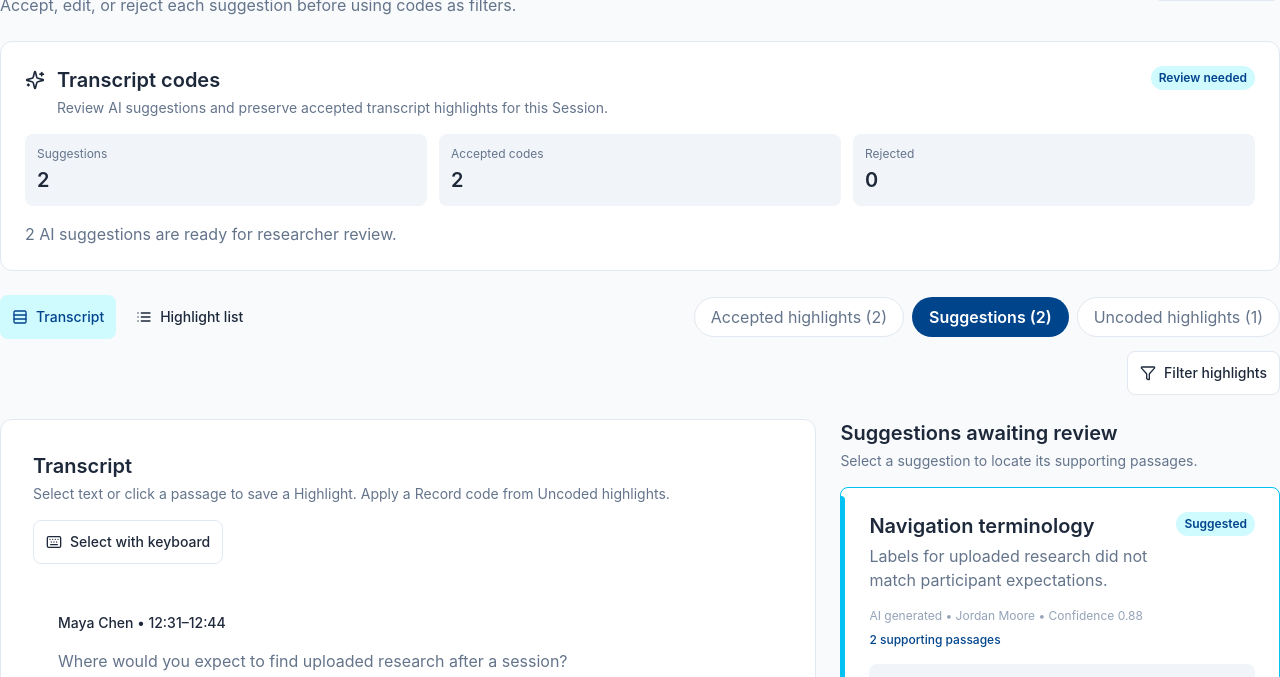
it: Transcript Coding Workspace filters › creates an uncoded whole-passage Highlight when a reader block is clicked
Click the text "Where would you expect to find uploaded research after a session?": (313, 661) x1=58 y1=651 x2=568 y2=671
(page scrolled)
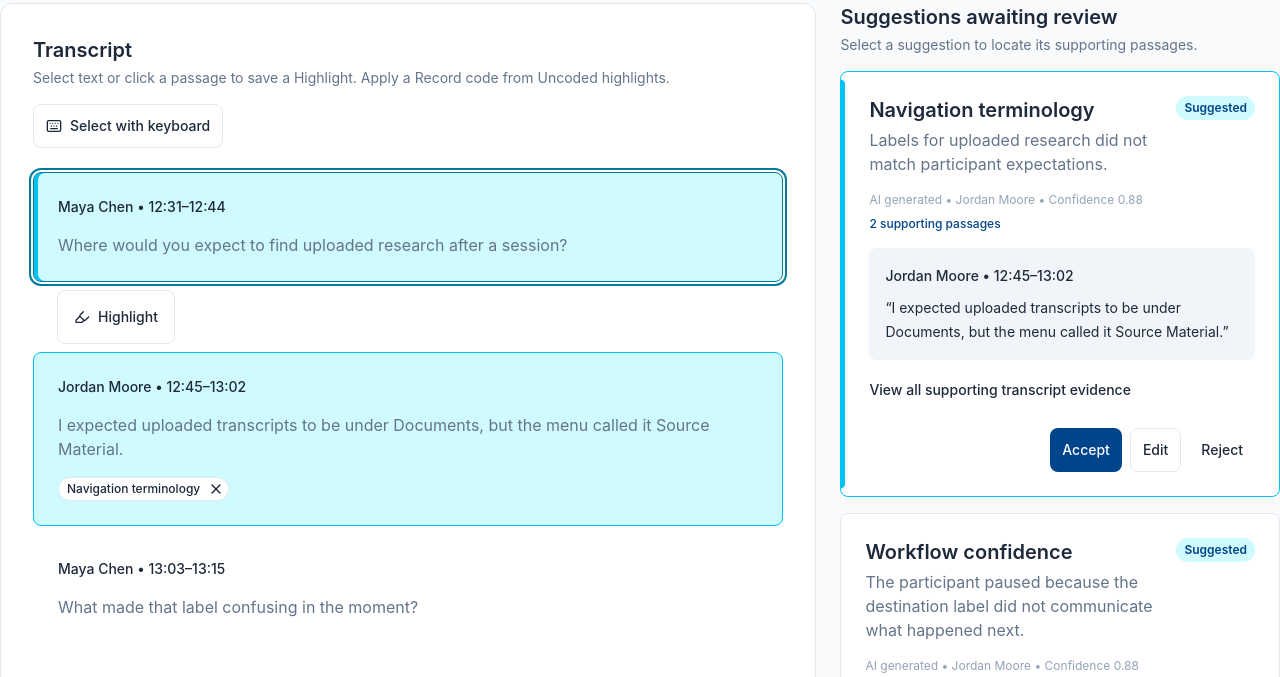
Check: the button "Apply code" is not shown
Click the button "Highlight": (116, 317) x1=62 y1=295 x2=170 y2=339
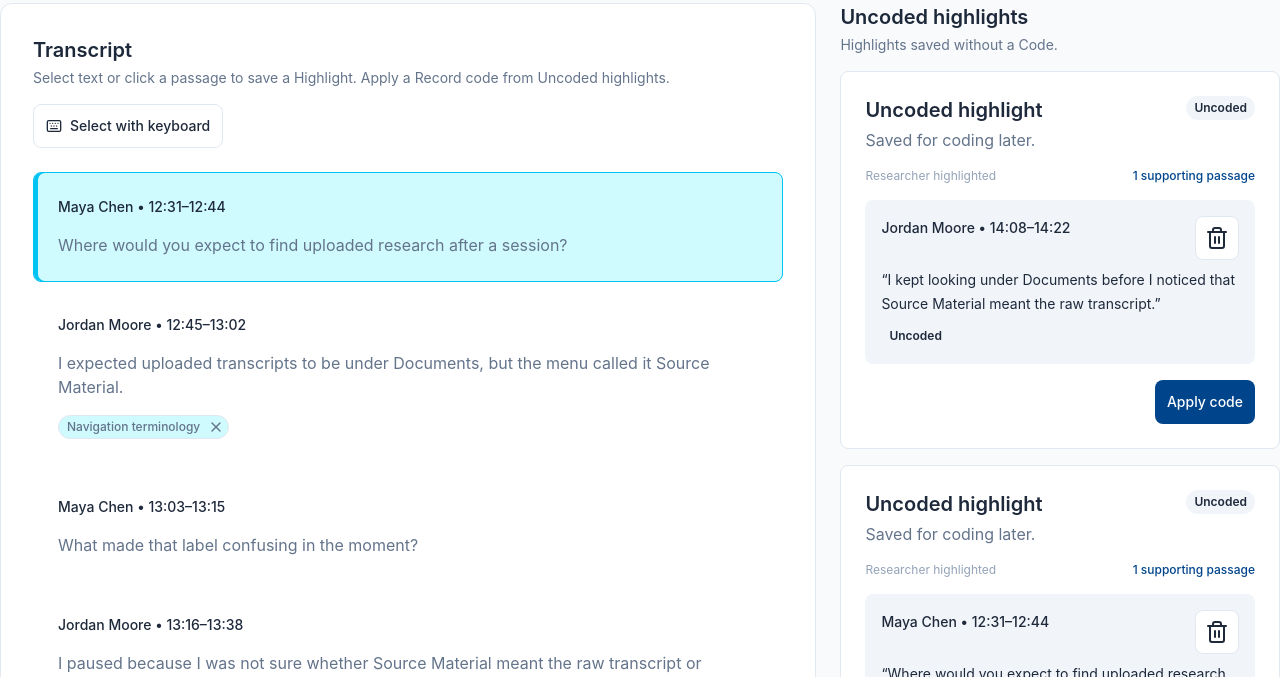
Check: the heading "Uncoded highlights" is shown, box x1=840 y1=5 x2=1028 y2=29
